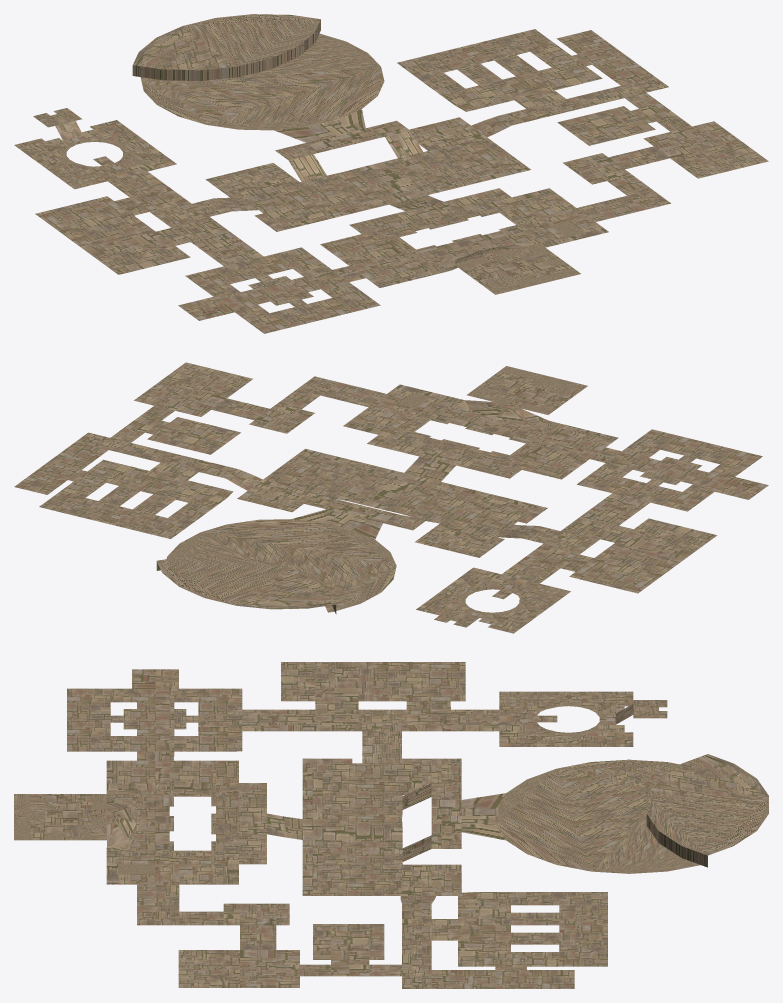
Rendered from Level2-ForbiddenTempleV2FLipped.FBX.
3 views of the same model, one above another, from view 1: azimuth 30°, elevation 25°; view 2: azimuth 150°, elevation 25°; view 3: azimuth 270°, elevation 25° (orthographic). The views are drawn at different scales.
Parts seen in each view (by area): view 1: 0_Floor, ThroneHole; view 2: 0_Floor, ThroneHole; view 3: 0_Floor, ThroneHole.
Part boxes in pixels (x1,y1,x2,y2): 0_Floor: [14, 29, 768, 333]; ThroneHole: [132, 14, 320, 80]; 0_Floor: [14, 362, 768, 633]; ThroneHole: [156, 556, 336, 614]; 0_Floor: [14, 662, 700, 988]; ThroneHole: [646, 754, 768, 867].
Bounding box in the file's own units: 10383 × 381 × 10137.
